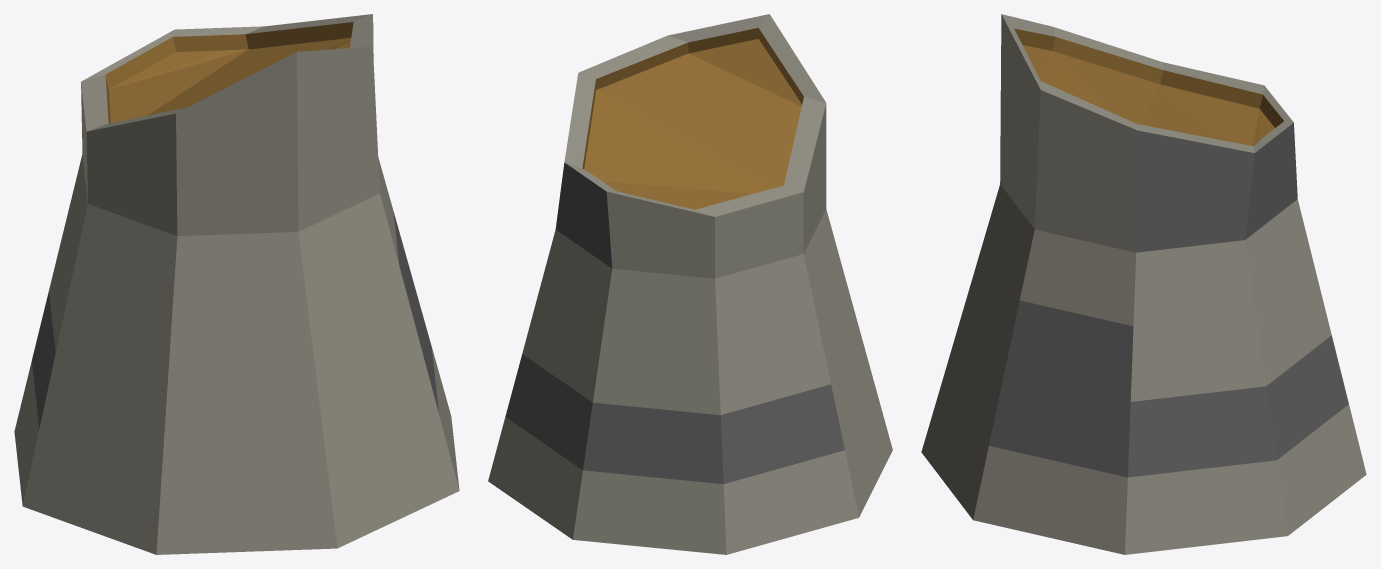
Rendered from broken_trunk_tree.fbx.
The picture shows the model from 3 angles, left to right: view 1: azimuth 30°, elevation 25°; view 2: azimuth 150°, elevation 25°; view 3: azimuth 270°, elevation 25°; orthographic projection. The views are drawn at different scales.
Visible parts, largest first — view 1: fallentree; view 2: fallentree; view 3: fallentree.
Part boxes in pixels (<box>): fallentree: <box>14,14,459,554</box>; fallentree: <box>488,14,892,554</box>; fallentree: <box>921,14,1366,554</box>.
Bounding box in the file's own units: 1.32 × 1.46 × 1.32.
